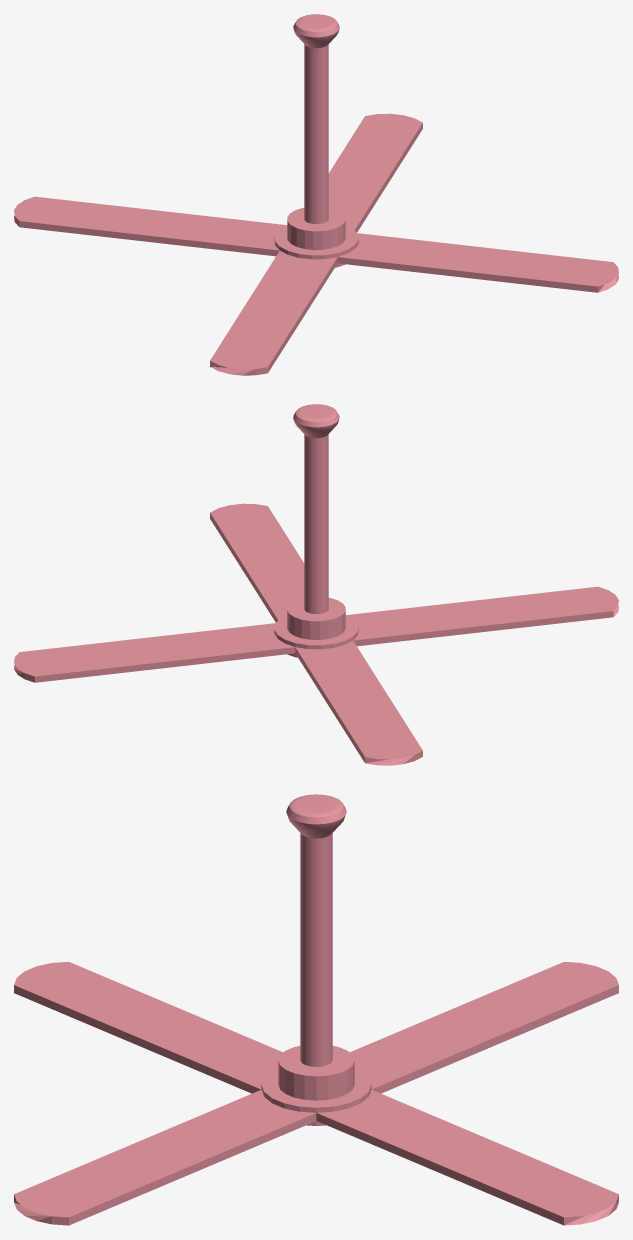
File: Vantilatör Tavan (1).fbx
The picture shows the model from 3 angles, top to bottom: view 1: azimuth 30°, elevation 25°; view 2: azimuth 150°, elevation 25°; view 3: azimuth 270°, elevation 25°; orthographic projection. The views are drawn at different scales.
Visible parts, largest first — view 1: polySurface11, polySurface12; view 2: polySurface11, polySurface12; view 3: polySurface11, polySurface12.
Boxes of the visible parts, left/top/right/bottom form: polySurface11: left=14, top=113, right=618, bottom=375; polySurface12: left=293, top=14, right=339, bottom=223; polySurface11: left=14, top=503, right=618, bottom=765; polySurface12: left=293, top=404, right=339, bottom=613; polySurface11: left=14, top=961, right=618, bottom=1225; polySurface12: left=286, top=794, right=346, bottom=1066.
Size of the model in its own units: 11 by 6 by 11.
